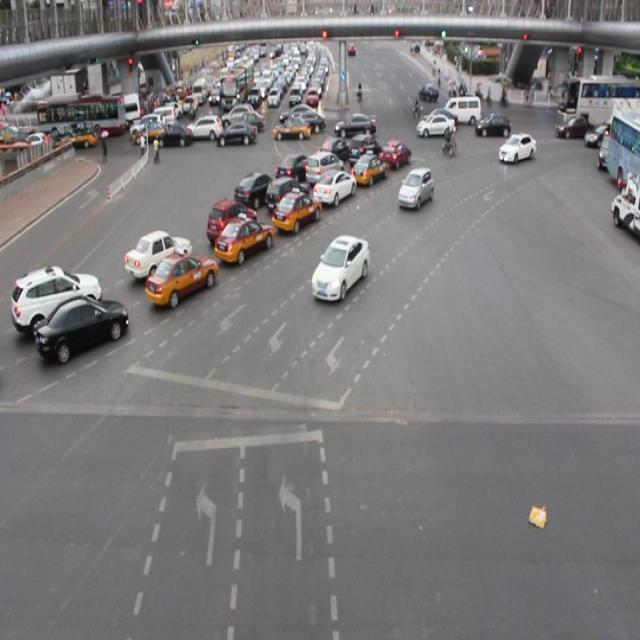car: (36, 299, 127, 386), (8, 260, 106, 322), (311, 222, 373, 304), (144, 253, 215, 312), (116, 220, 190, 274), (202, 188, 263, 240), (221, 213, 278, 263), (492, 126, 536, 170), (276, 194, 318, 238), (440, 87, 482, 130), (313, 166, 355, 207), (338, 103, 376, 147), (151, 114, 190, 155), (397, 170, 436, 210), (239, 168, 275, 210), (415, 104, 455, 140), (348, 156, 391, 188), (218, 119, 255, 155), (476, 111, 512, 147), (381, 136, 418, 170), (283, 148, 316, 186), (305, 148, 346, 178), (317, 134, 354, 167), (287, 105, 329, 134), (274, 112, 308, 146), (191, 115, 223, 147), (226, 95, 256, 125), (360, 134, 387, 162)
